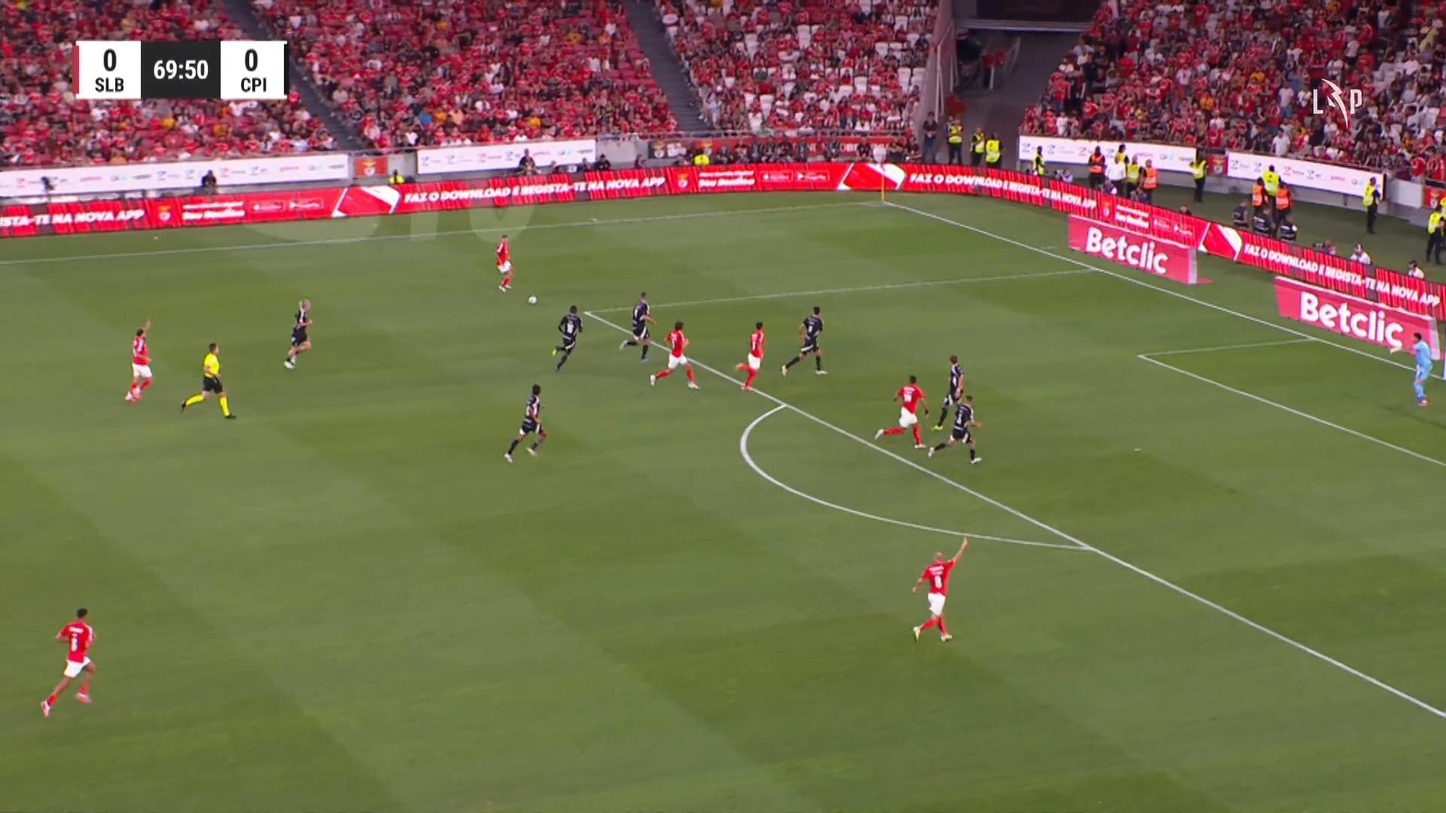ball: (527, 295, 536, 305)
goalkeeper: (1390, 330, 1434, 406)
player: (39, 607, 96, 718), (910, 536, 969, 642), (874, 373, 929, 449), (926, 393, 983, 464), (502, 383, 548, 463), (648, 319, 700, 389), (779, 305, 828, 376), (618, 291, 657, 362), (931, 354, 966, 430), (124, 318, 154, 403), (734, 320, 766, 391), (282, 297, 313, 369), (551, 304, 583, 372), (494, 233, 514, 292)
referee: (179, 341, 236, 419)
